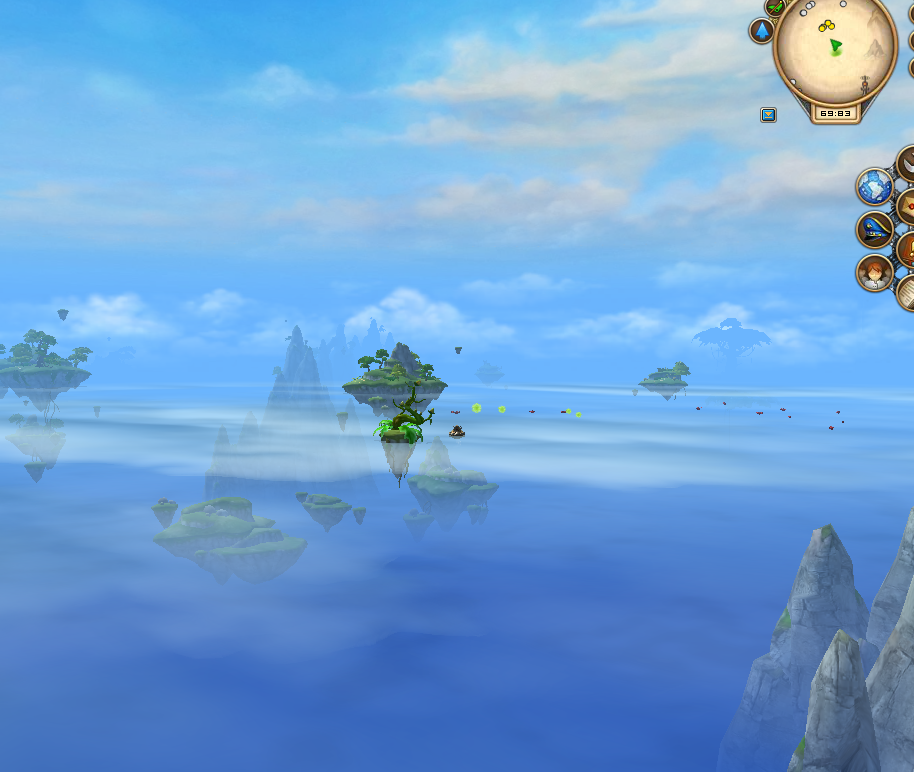dandelion-empty: (370, 378, 436, 480)
fluff: (469, 399, 483, 416), (496, 402, 508, 414), (575, 409, 584, 419), (564, 405, 571, 417)
